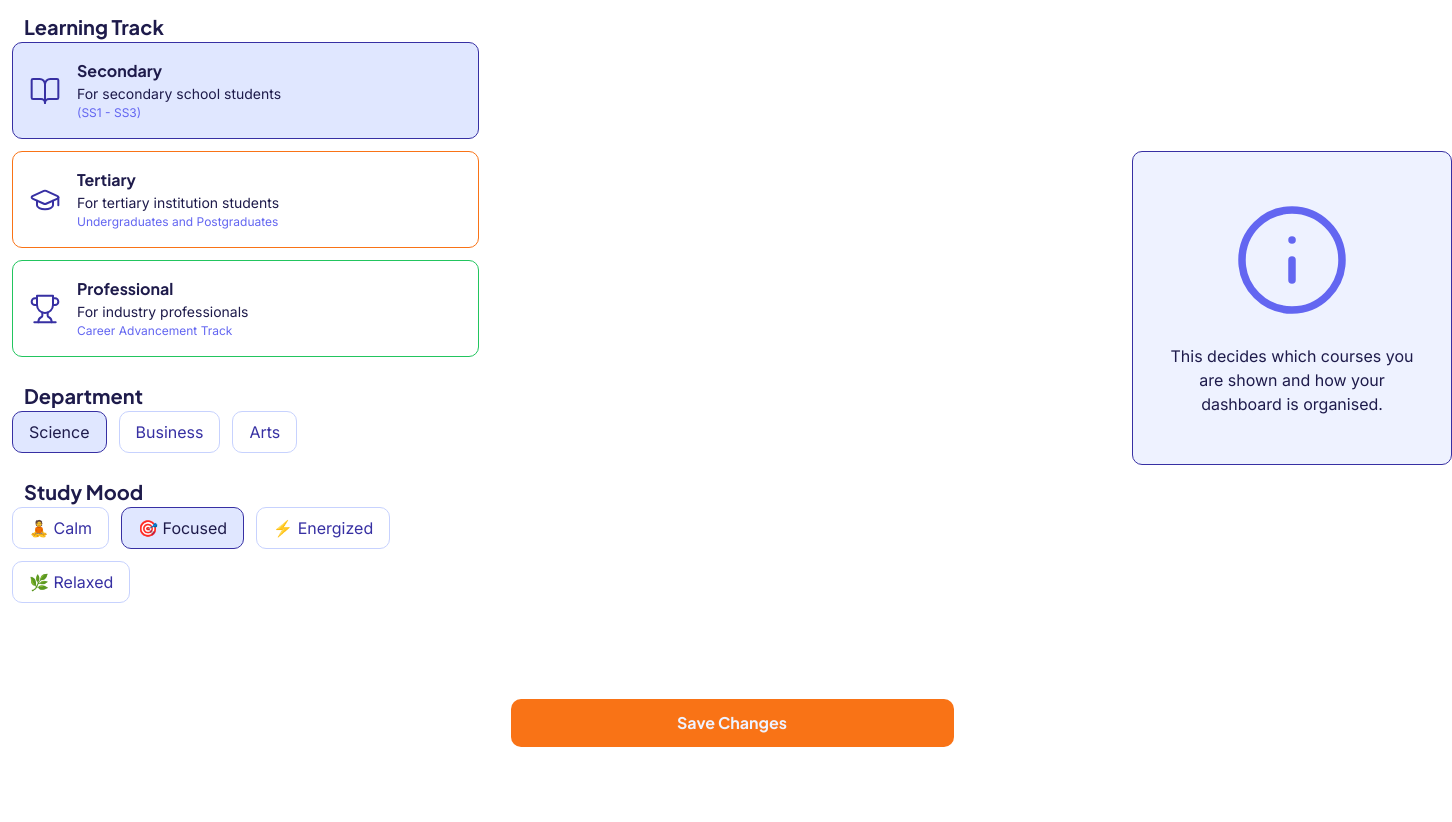
LearningPreferencesForm — saving › refreshes the shell, which routes on the track it just changed
Click the button "Save Changes". click: (732, 723)
box: [510,699,954,747]
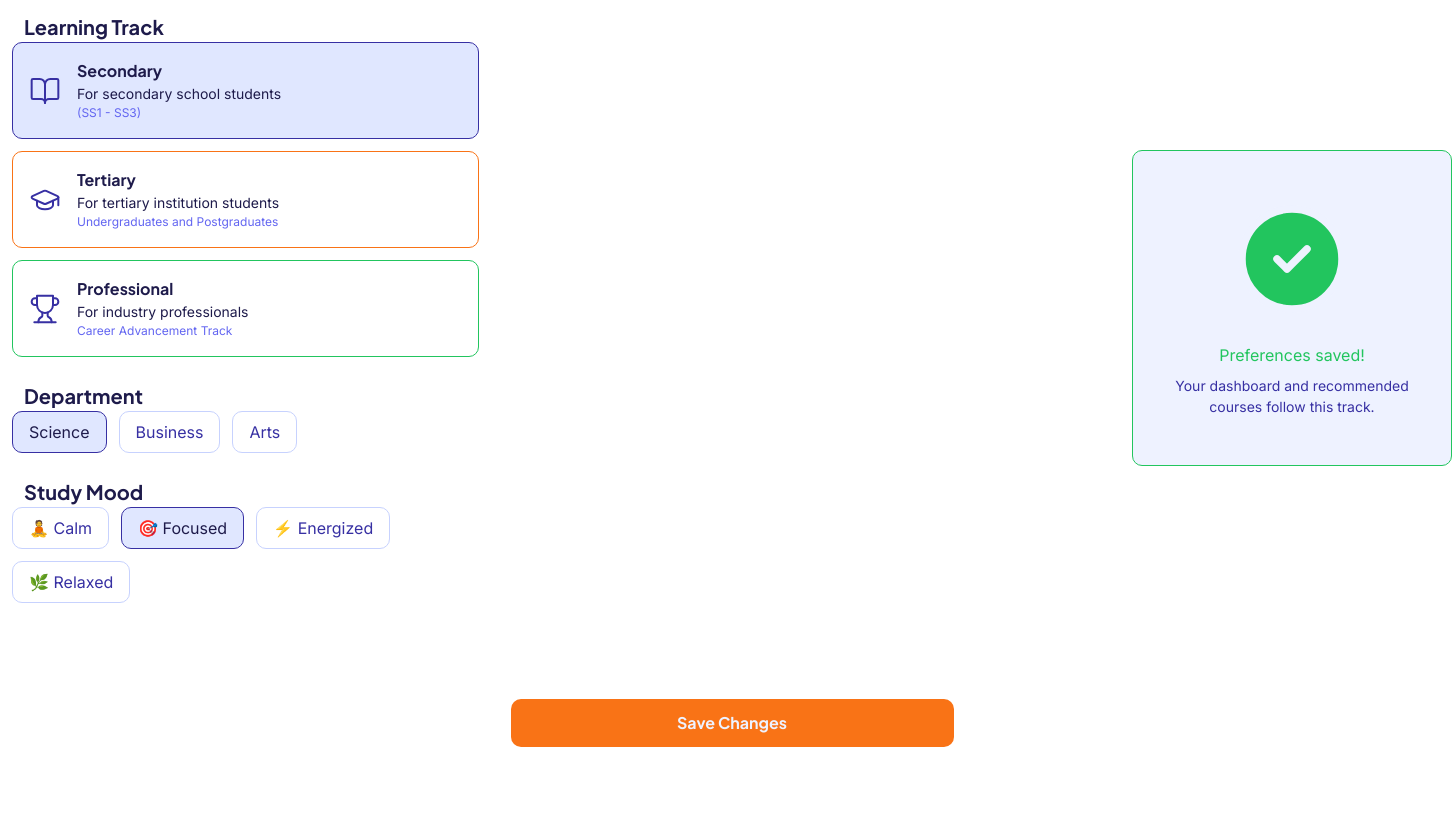
Expected: the message shows "Preferences saved", [1219,344,1365,364]
